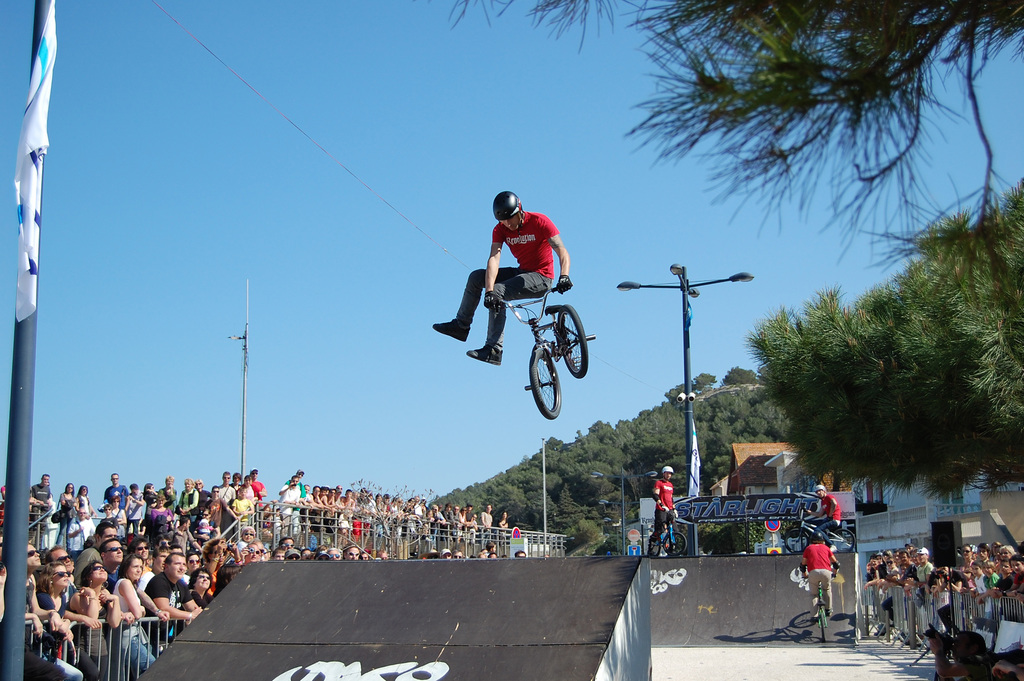Person: (0, 465, 1024, 681), (432, 190, 574, 365)
